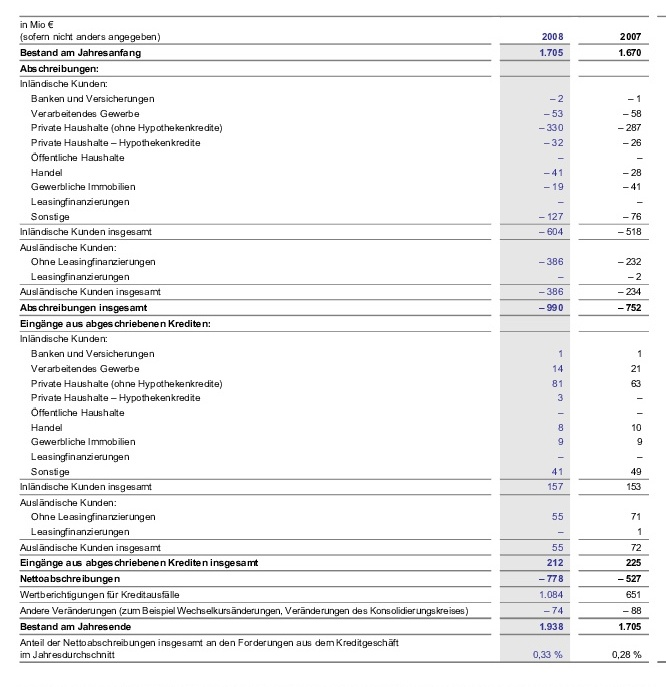table: (0, 0, 666, 687)
